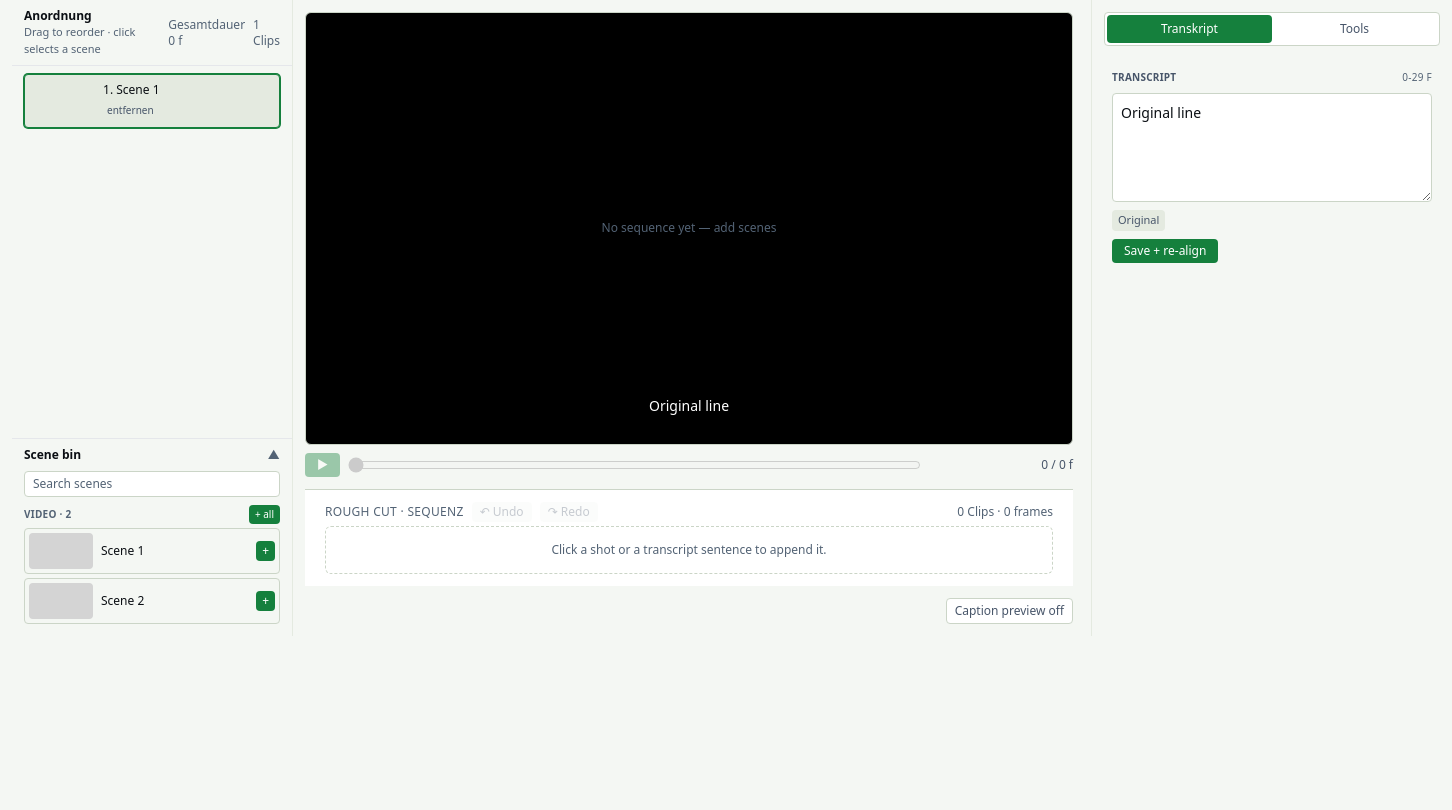
Test case: AssembleView › polls and displays the realignment job status after saving transcript text
Replace the text in the text box showing "Original line" with "Better line" at (1272, 148), box left=1112, top=93, right=1432, bottom=202
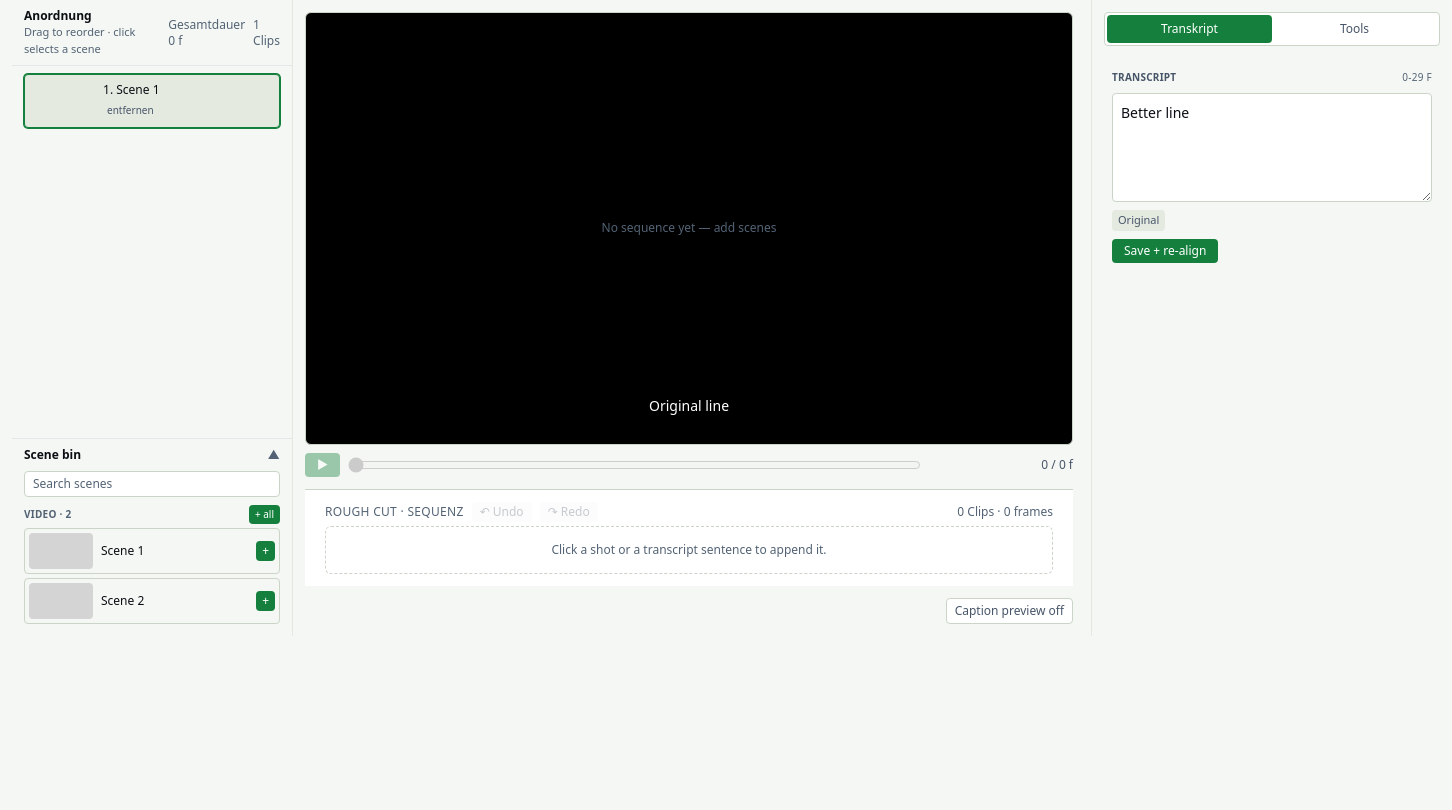
Click the button "Save + re-align".
click(1165, 250)  # box left=1112, top=238, right=1218, bottom=262
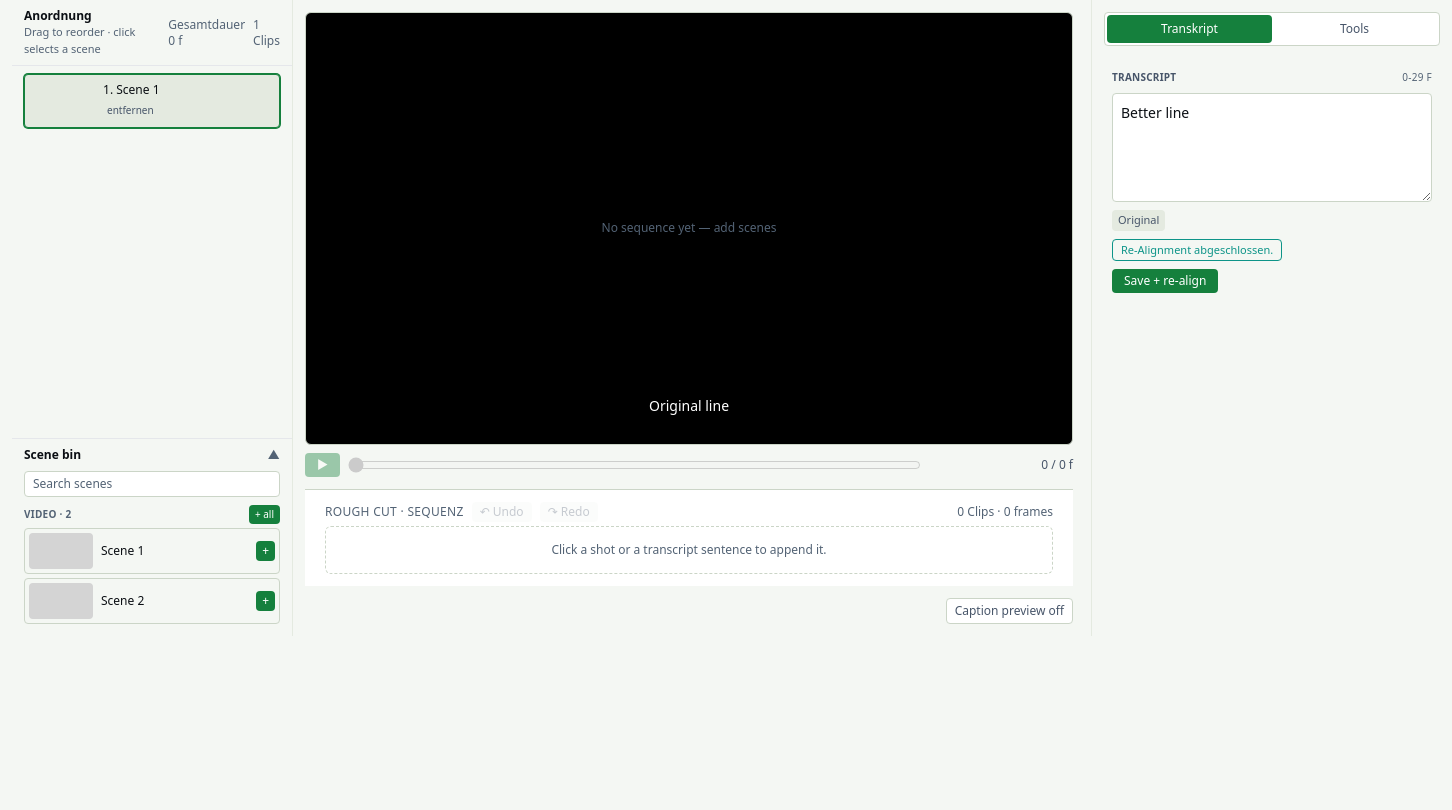
Expected: the text "Re-Alignment abgeschlossen." is shown, left=1112, top=238, right=1282, bottom=261
